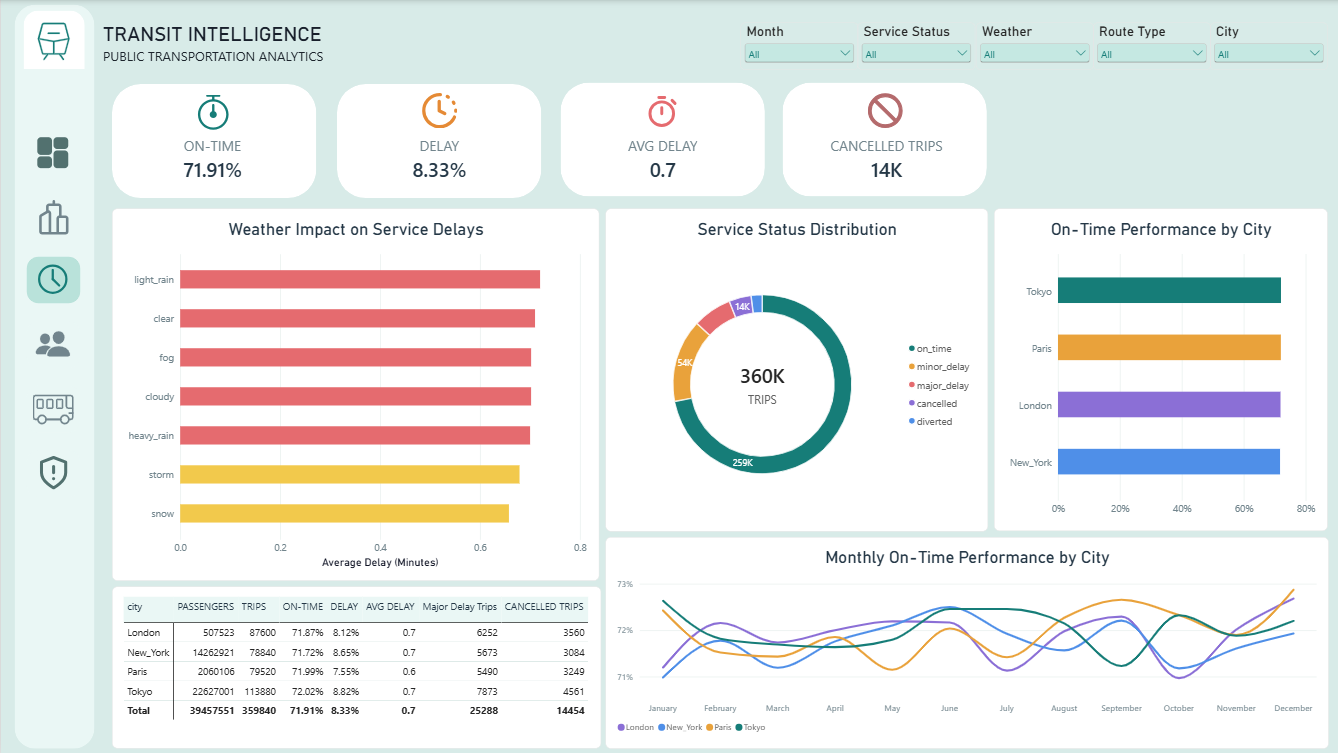

The page's visual inventory and layout, read from the dashboard file:
{"tool":"powerbi","page":{"name":"Service Reliability","canvas":[1920,1080],"ordinal":2},"visuals":[{"type":"shape","box":[19.5,7.3,114.7,1066.2],"z":0},{"type":"textbox","title":"TRANSIT INTELLIGENCE","box":[146.4,31.7,366,61],"z":1000},{"type":"lineChart","title":"Monthly On-Time Performance by City","fields":{"Category":["public_transportation_cleaned.timestamp.Variation.Date Hierarchy.Month"],"Series":["public_transportation_cleaned.city"],"Y":["_Measures.ON-TIME"]},"box":[865,769.3,1035.7,303.6],"z":2000},{"type":"donutChart","title":"Service Status Distribution","fields":{"Category":["public_transportation_cleaned.service_status"],"Y":["_Measures.Total Trips"]},"box":[865,298.6,547.9,462.9],"z":3000},{"type":"clusteredBarChart","title":"On-Time Performance by City","fields":{"Category":["public_transportation_cleaned.city"],"Y":["_Measures.On-Time Rate %"]},"box":[1422.2,297.8,477.8,462.2],"z":4000},{"type":"clusteredBarChart","title":"Weather Impact on Service Delays","fields":{"Category":["public_transportation_cleaned.weather_condition"],"Y":["_Measures.Average Delay"]},"box":[160,298.2,698.2,508.2],"z":5000},{"type":"pivotTable","fields":{"Rows":["public_transportation_cleaned.city"],"Values":["_Measures.PASSENGERS","_Measures.Total Trips","_Measures.On-Time Rate %","_Measures.Delay Rate %","_Measures.Average Delay","_Measures.Major Delay Trips","_Measures.Cancelled Trips"]},"box":[160,812.9,698.6,260],"z":6000},{"type":"shape","box":[31.4,15.9,87.7,84.1],"z":7000},{"type":"image","box":[35.5,26.4,78.2,63.6],"z":8000},{"type":"shape","box":[37.3,277.3,77.3,67.3],"z":9000},{"type":"shape","box":[37.3,367.3,77.3,67.3],"z":10000},{"type":"shape","box":[37.3,459.1,76.9,67.5],"z":11000},{"type":"shape","box":[37.3,551.8,76.9,67.5],"z":12000},{"type":"shape","box":[37.3,644.5,76.9,67.5],"z":13000},{"type":"image","box":[39.1,281.8,74,59],"z":14000},{"type":"image","box":[41.8,374.5,66.4,51.8],"z":15000},{"type":"image","box":[39.1,466.4,71.8,52.7],"z":16000},{"type":"image","box":[39.1,556.4,71.8,59.1],"z":17000},{"type":"image","box":[38.2,651.8,73.6,51.8],"z":18000},{"type":"actionButton","box":[46.3,286.3,58.4,49.5],"z":19000},{"type":"actionButton","box":[46.2,376.2,58.4,49.5],"z":20000},{"type":"actionButton","box":[45.8,467.9,58.4,49.5],"z":21000},{"type":"actionButton","box":[46,561,59,50],"z":22000},{"type":"actionButton","box":[46,653.3,58.4,49.5],"z":23000},{"type":"shape","box":[37.5,186.2,76.9,67.5],"z":24000},{"type":"image","box":[41,194,66.7,50.8],"z":25000},{"type":"actionButton","box":[46,195,58.4,49.5],"z":26000},{"type":"slicer","fields":{"Values":["public_transportation_cleaned.city"]},"box":[1732.3,31.7,168.3,68.3],"z":27000},{"type":"slicer","fields":{"Values":["public_transportation_cleaned.route_type"]},"box":[1563.9,31.7,168.3,68.3],"z":28000},{"type":"slicer","fields":{"Values":["public_transportation_cleaned.weather_condition"]},"box":[1395.7,31.4,168.3,68.3],"z":29000},{"type":"slicer","fields":{"Values":["public_transportation_cleaned.timestamp.Variation.Date Hierarchy.Month"]},"box":[1058.4,31.8,168.3,68.3],"z":30000},{"type":"slicer","fields":{"Values":["public_transportation_cleaned.service_status"]},"box":[1226.5,31.8,168.3,68.3],"z":31000},{"type":"shape","box":[158.6,119.6,292.8,163.5],"z":32000},{"type":"shape","box":[481.1,120,292.8,163.5],"z":33000},{"type":"shape","box":[801.1,118.9,292.8,163.5],"z":34000},{"type":"shape","box":[1120,118.9,292.8,163.5],"z":35000},{"type":"cardVisual","fields":{"Data":["_Measures.ON-TIME"]},"box":[215.6,177.8,176.7,100],"z":36000},{"type":"cardVisual","fields":{"Data":["_Measures.Delay Rate %"]},"box":[538.9,177.8,177,100],"z":37000},{"type":"cardVisual","fields":{"Data":["_Measures.AVG DELAY"]},"box":[858.9,177.8,177,100],"z":38000},{"type":"cardVisual","fields":{"Data":["_Measures.Cancelled Trips"]},"box":[1161.4,178.1,212.3,100],"z":39000},{"type":"image","box":[271.2,135,66.7,50.8],"z":40000},{"type":"image","box":[595,133.8,66.7,50.8],"z":41000},{"type":"image","box":[1232.5,133.8,66.7,50.8],"z":42000},{"type":"image","box":[913.8,135,66.7,50.8],"z":43000},{"type":"actionButton","box":[31.4,25.7,87.1,74.3],"z":44000}]}

Visuals, with their boxes in screenshot pixels (x1, y1, x2, y2), scaled from the page's 1920x1080 canvas onto the 1338x753 screenshot:
shape: rect(14, 5, 94, 748)
"TRANSIT INTELLIGENCE" textbox: rect(102, 22, 357, 65)
"Monthly On-Time Performance by City" lineChart: rect(603, 536, 1325, 748)
"Service Status Distribution" donutChart: rect(603, 208, 985, 531)
"On-Time Performance by City" clusteredBarChart: rect(991, 208, 1324, 530)
"Weather Impact on Service Delays" clusteredBarChart: rect(112, 208, 598, 562)
pivotTable - public_transportation_cleaned.city x _Measures.PASSENGERS: rect(112, 567, 598, 748)
shape: rect(22, 11, 83, 70)
image: rect(25, 18, 79, 63)
shape: rect(26, 193, 80, 240)
shape: rect(26, 256, 80, 303)
shape: rect(26, 320, 80, 367)
shape: rect(26, 385, 80, 432)
shape: rect(26, 449, 80, 496)
image: rect(27, 196, 79, 238)
image: rect(29, 261, 75, 297)
image: rect(27, 325, 77, 362)
image: rect(27, 388, 77, 429)
image: rect(27, 454, 78, 491)
actionButton: rect(32, 200, 73, 234)
actionButton: rect(32, 262, 73, 297)
actionButton: rect(32, 326, 73, 361)
actionButton: rect(32, 391, 73, 426)
actionButton: rect(32, 455, 73, 490)
shape: rect(26, 130, 80, 177)
image: rect(29, 135, 75, 171)
actionButton: rect(32, 136, 73, 170)
slicer - public_transportation_cleaned.city: rect(1207, 22, 1324, 70)
slicer - public_transportation_cleaned.route_type: rect(1090, 22, 1207, 70)
slicer - public_transportation_cleaned.weather_condition: rect(973, 22, 1090, 70)
slicer - public_transportation_cleaned.timestamp.Variation.Date Hierarchy.Month: rect(738, 22, 855, 70)
slicer - public_transportation_cleaned.service_status: rect(855, 22, 972, 70)
shape: rect(111, 83, 315, 197)
shape: rect(335, 84, 539, 198)
shape: rect(558, 83, 762, 197)
shape: rect(780, 83, 985, 197)
cardVisual - _Measures.ON-TIME: rect(150, 124, 273, 194)
cardVisual - _Measures.Delay Rate %: rect(376, 124, 499, 194)
cardVisual - _Measures.AVG DELAY: rect(599, 124, 722, 194)
cardVisual - _Measures.Cancelled Trips: rect(809, 124, 957, 194)
image: rect(189, 94, 235, 130)
image: rect(415, 93, 461, 129)
image: rect(859, 93, 905, 129)
image: rect(637, 94, 683, 130)
actionButton: rect(22, 18, 83, 70)
